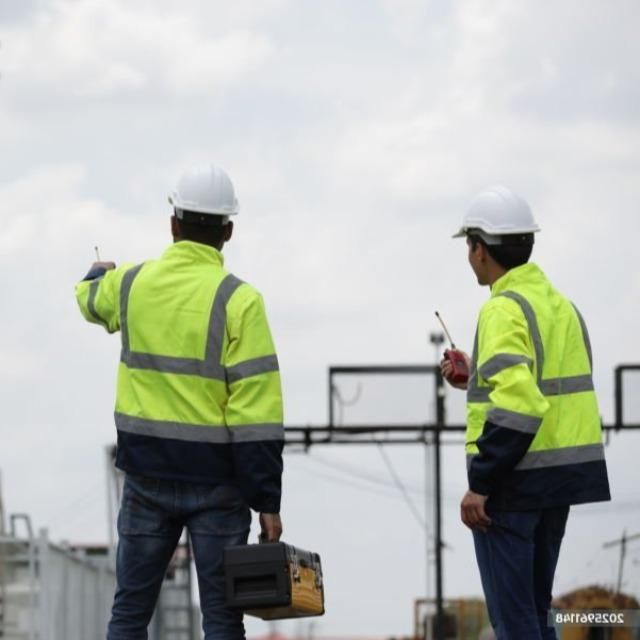Con_Casco: (453, 188, 537, 280)
Con_Chaleco: (110, 249, 271, 469), (462, 287, 606, 505)
